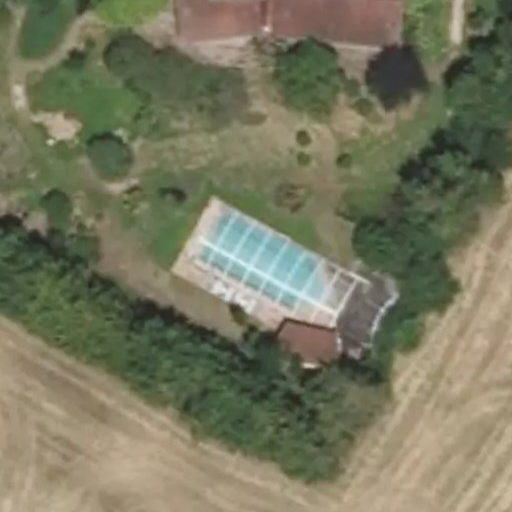pool: (204, 215, 324, 312)
